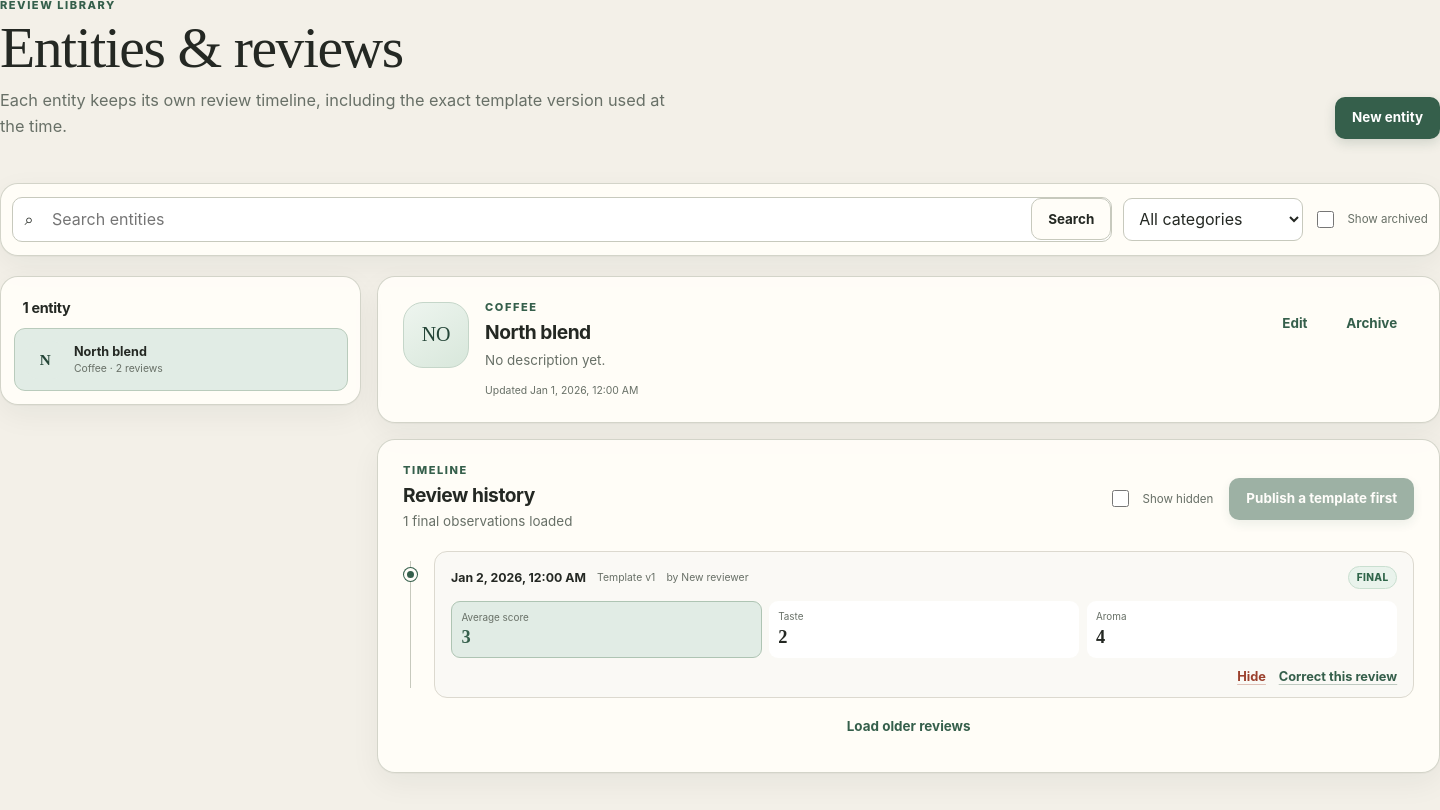
Scenario: paged workflows › loads older reviews and includes superseded history
Check: the text "by New reviewer" is shown, box [666, 571, 749, 584]
Check: the text "Average score" is shown, box [461, 611, 529, 623]
Click the button "Load older reviews".
click(909, 726)  # box [403, 705, 1414, 747]
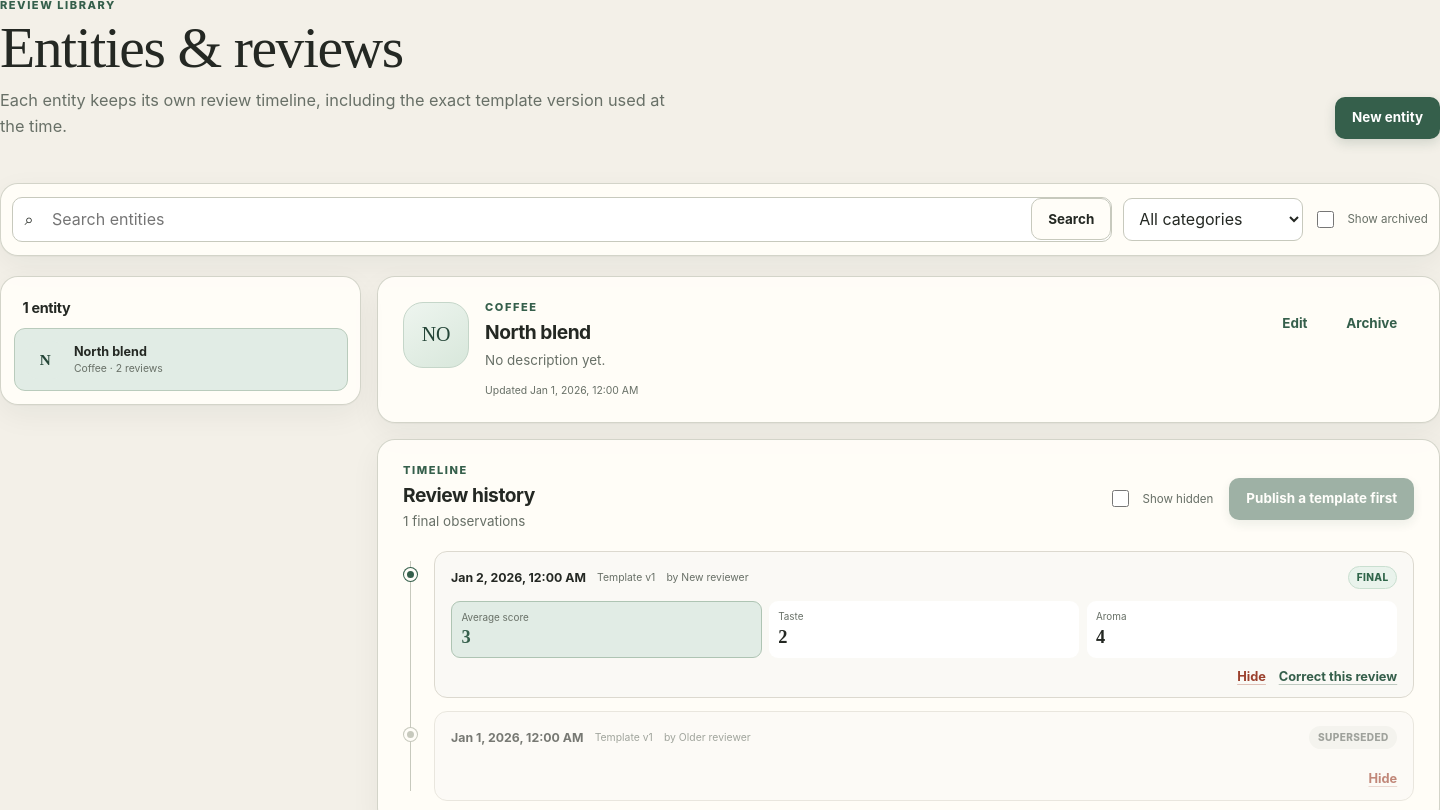
Check: the text "by Older reviewer" is shown, box [664, 731, 751, 744]
Check: the text "superseded" is shown, box [1309, 726, 1397, 749]
